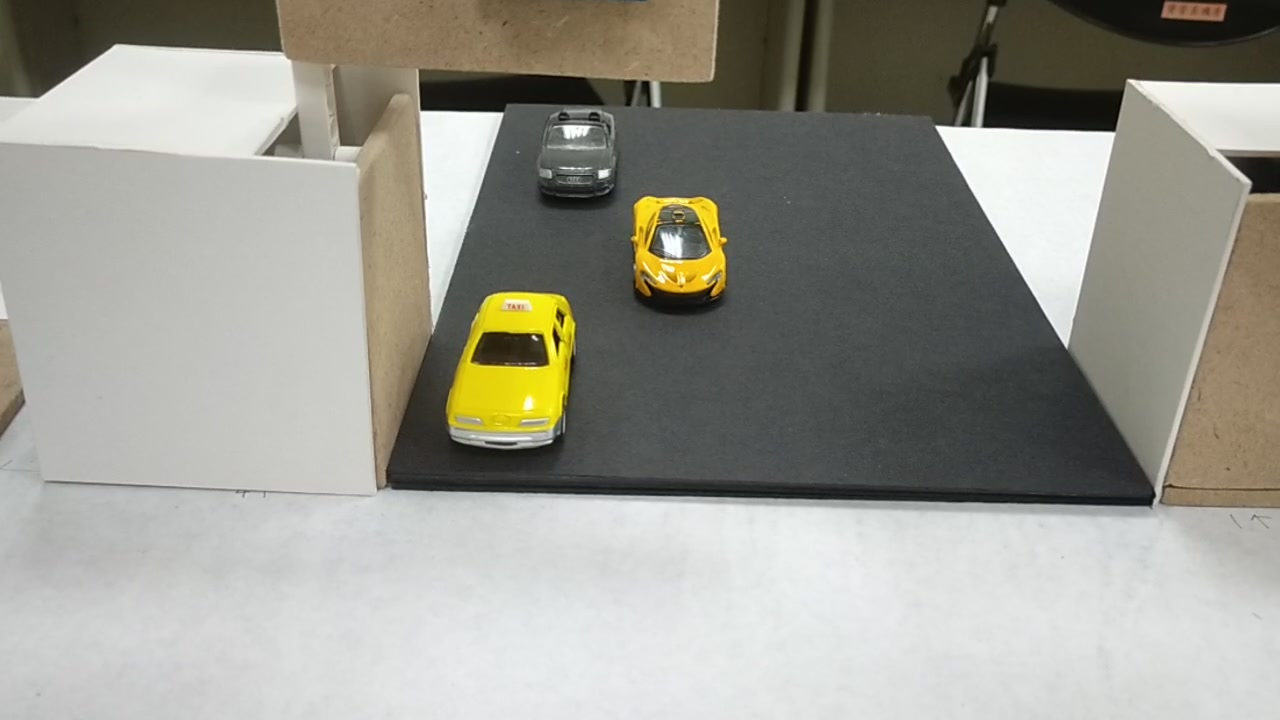car: (444, 290, 575, 448), (633, 190, 734, 306), (537, 108, 620, 199)
